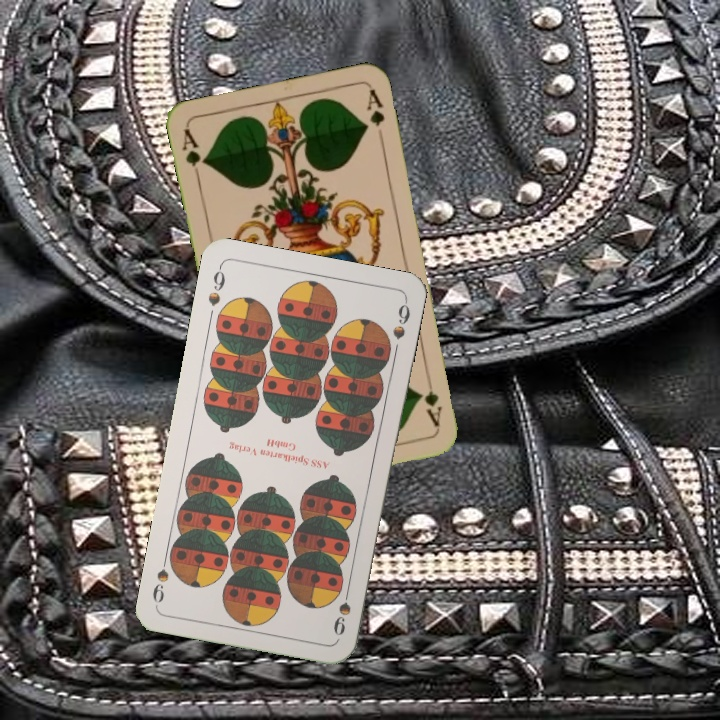GA: (178, 125, 209, 184), (420, 371, 445, 430)
S9: (329, 581, 354, 638), (204, 262, 228, 309)
